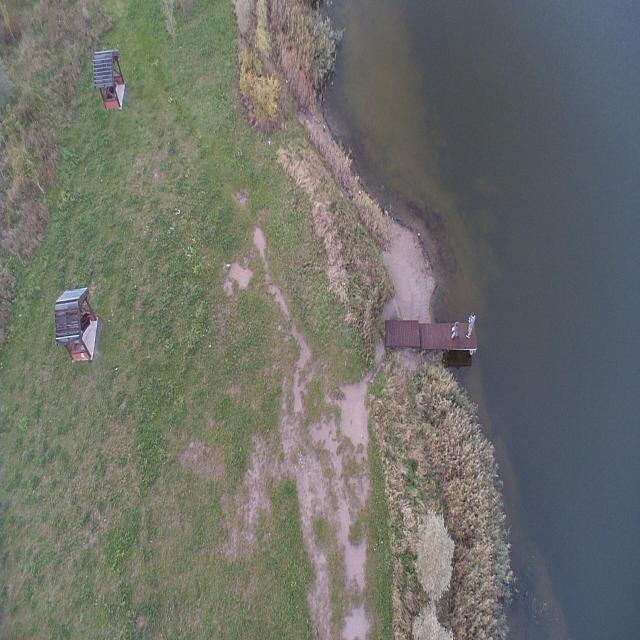p3rson: (466, 313, 476, 339), (451, 321, 460, 340)
